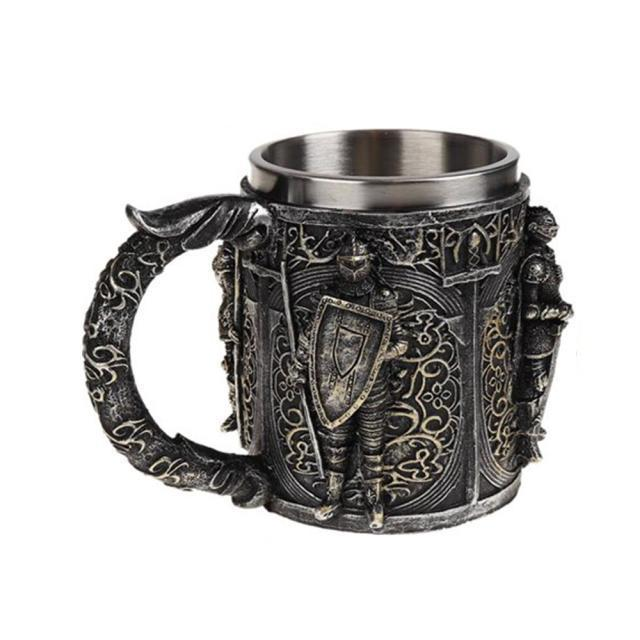taza: (81, 128, 580, 539)
